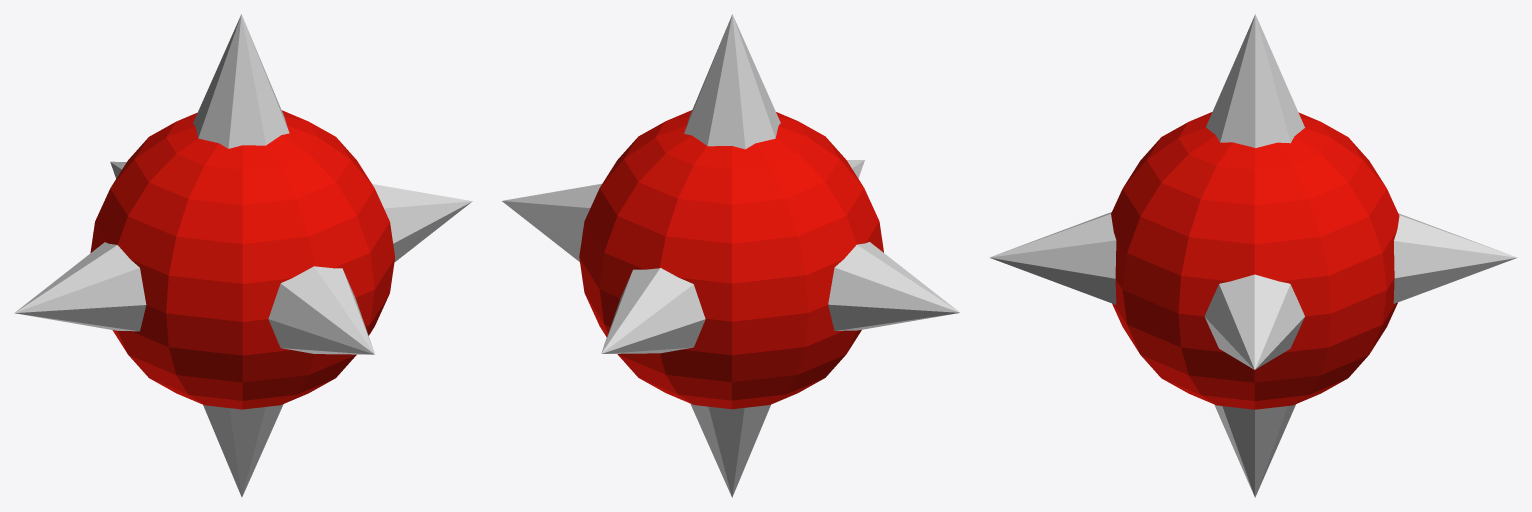
File: spikyball.fbx
The picture shows the model from 3 angles, left to right: view 1: azimuth 30°, elevation 25°; view 2: azimuth 150°, elevation 25°; view 3: azimuth 270°, elevation 25°; orthographic projection.
Visible parts, largest first — view 1: SpikyBall; view 2: SpikyBall; view 3: SpikyBall.
Boxes of the visible parts, <box> form: SpikyBall: <box>14,14,472,497</box>; SpikyBall: <box>502,14,959,497</box>; SpikyBall: <box>989,14,1517,497</box>.
Size of the model in its own units: 262 by 264 by 262.
